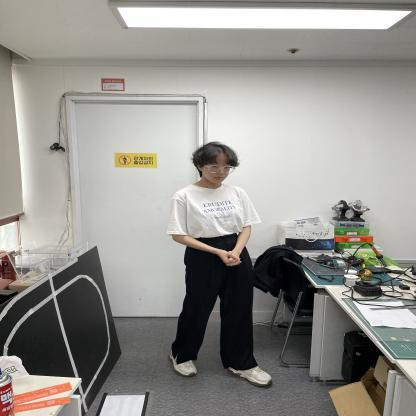normal: (168, 137, 271, 387)
